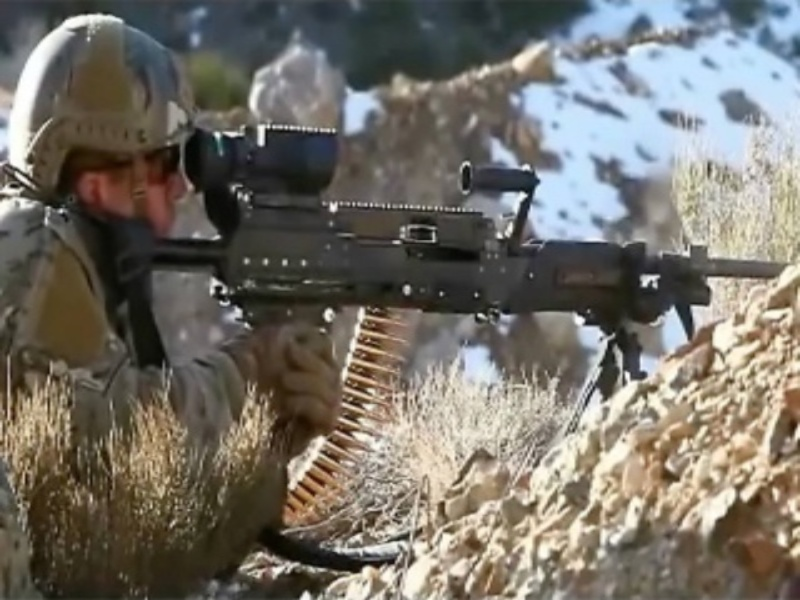person: (3, 11, 344, 441)
weapon: (97, 123, 790, 399)
